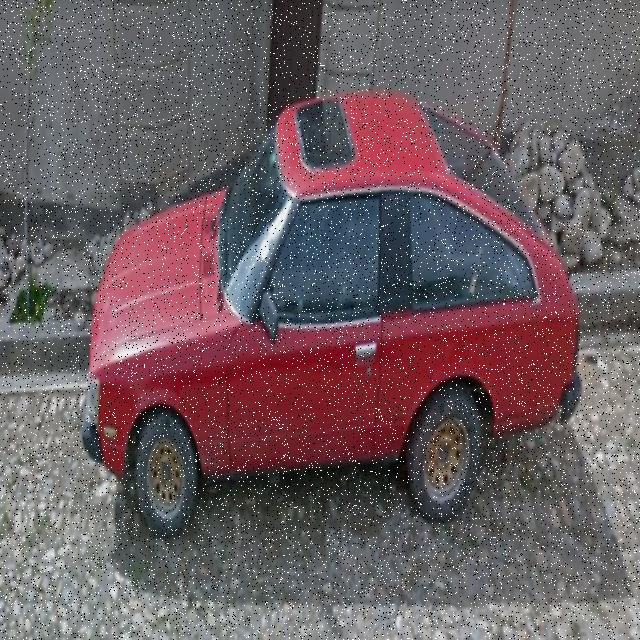cars: (88, 95, 584, 536)
